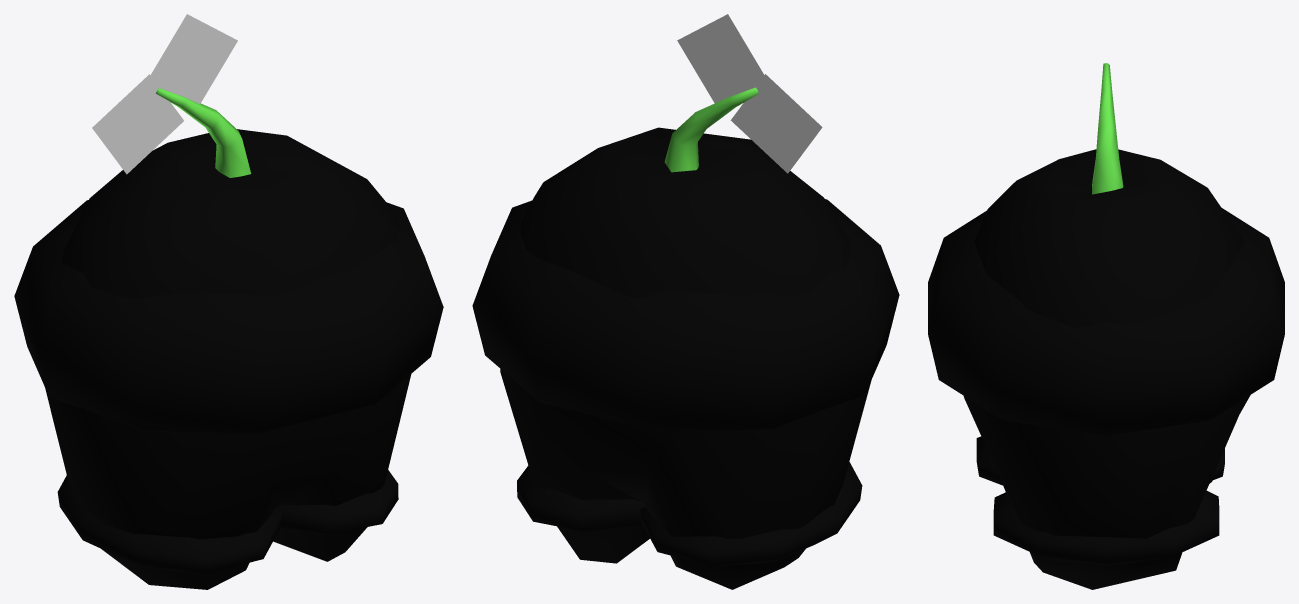
The model's file is Ringed_Apple.fbx.
3 renders of one model, left to right at view 1: azimuth 30°, elevation 25°; view 2: azimuth 150°, elevation 25°; view 3: azimuth 270°, elevation 25°, orthographic. The views are drawn at different scales.
Visible parts, largest first — view 1: Ringed_Apple; view 2: Ringed_Apple; view 3: Ringed_Apple.
Part boxes in pixels (x1,y1,x2,y2): Ringed_Apple: [14, 14, 443, 589]; Ringed_Apple: [472, 14, 899, 589]; Ringed_Apple: [928, 63, 1284, 589].
Size of the model in its own units: 1.2 by 1.93 by 1.37.
